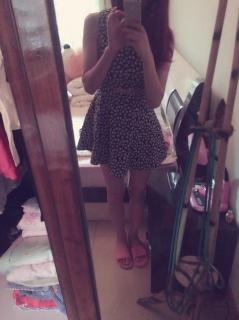vest: (76, 6, 168, 178)
